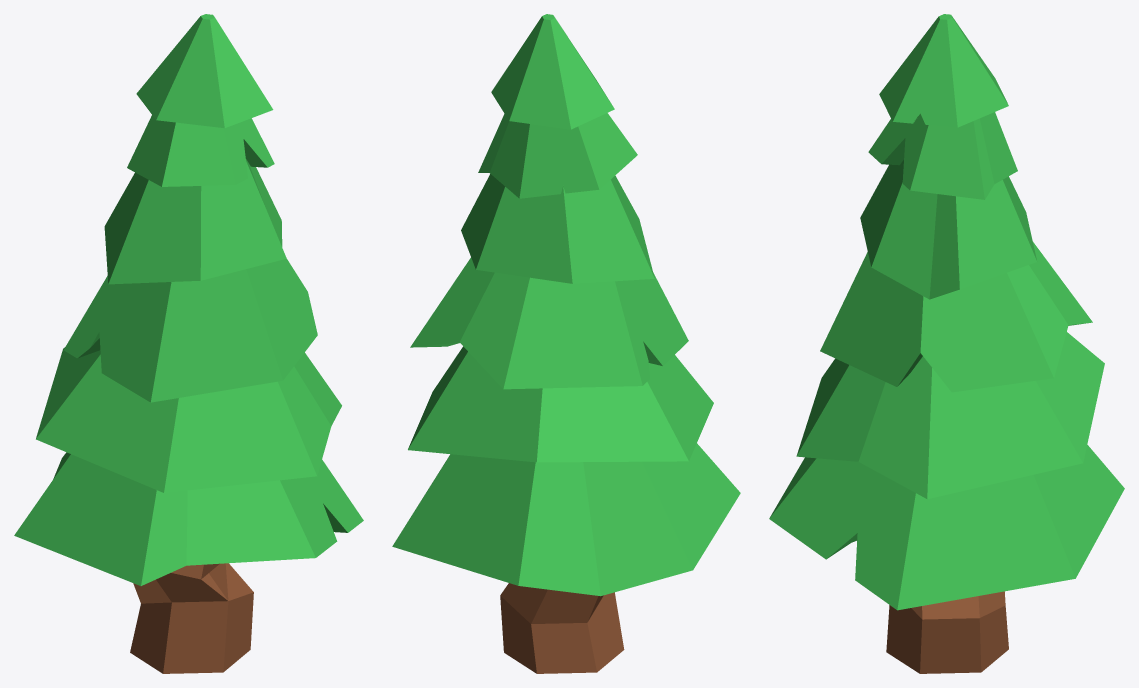
File: pinheiro4.fbx
The picture shows the model from 3 angles, left to right: view 1: azimuth 30°, elevation 25°; view 2: azimuth 150°, elevation 25°; view 3: azimuth 270°, elevation 25°; orthographic projection. The views are drawn at different scales.
Visible parts, largest first — view 1: Cylinder.023, Cylinder.022, Cylinder.024, Cylinder.025, Cylinder.021, Cylinder.027, Cylinder.026; view 2: Cylinder.022, Cylinder.024, Cylinder.023, Cylinder.025, Cylinder.026, Cylinder.021, Cylinder.027; view 3: Cylinder.022, Cylinder.023, Cylinder.024, Cylinder.025, Cylinder.027, Cylinder.026, Cylinder.021.
Boxes of the visible parts, <box> form: Cylinder.023: <box>36,347,341,492</box>; Cylinder.022: <box>14,452,363,585</box>; Cylinder.024: <box>64,258,317,402</box>; Cylinder.025: <box>104,158,286,284</box>; Cylinder.021: <box>130,563,253,673</box>; Cylinder.027: <box>136,14,273,128</box>; Cylinder.026: <box>127,115,274,186</box>; Cylinder.022: <box>392,443,740,596</box>; Cylinder.024: <box>410,257,688,389</box>; Cylinder.023: <box>408,346,713,462</box>; Cylinder.025: <box>461,174,654,283</box>; Cylinder.026: <box>478,113,637,198</box>; Cylinder.021: <box>500,583,624,673</box>; Cylinder.027: <box>491,14,614,129</box>; Cylinder.022: <box>769,445,1124,610</box>; Cylinder.023: <box>796,332,1104,499</box>; Cylinder.024: <box>820,242,1092,392</box>; Cylinder.025: <box>860,160,1037,299</box>; Cylinder.027: <box>879,14,1008,127</box>; Cylinder.026: <box>868,112,1017,199</box>; Cylinder.021: <box>886,591,1008,673</box>.
Bounding box in the file's own units: 465 × 930 × 467.
